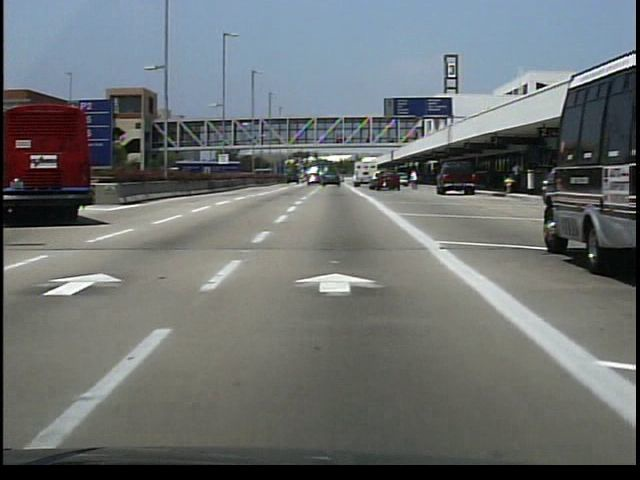person: (510, 162, 525, 197), (409, 168, 423, 191)
